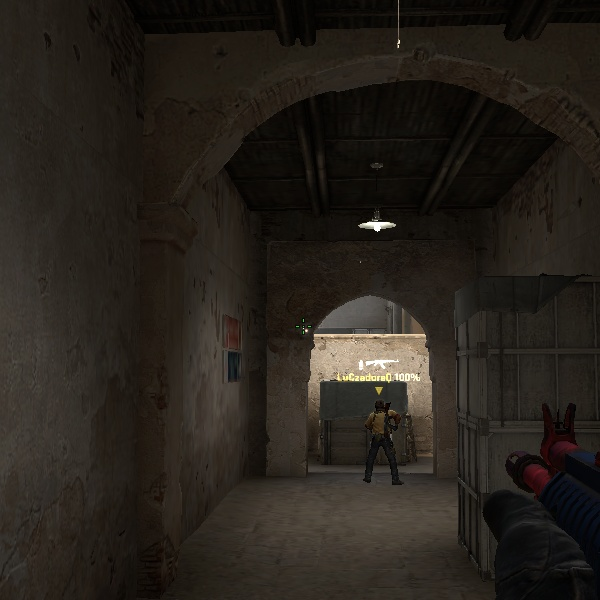t_body: (359, 398, 403, 485)
t_head: (375, 399, 386, 412)
